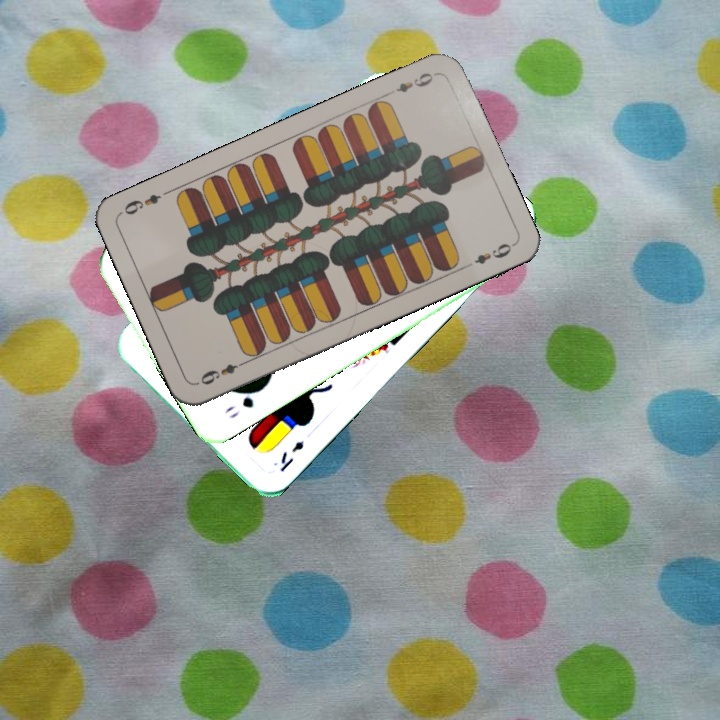E9: (194, 356, 250, 388), (391, 68, 436, 96)
EK: (276, 436, 307, 475)
GO: (220, 383, 267, 421)
